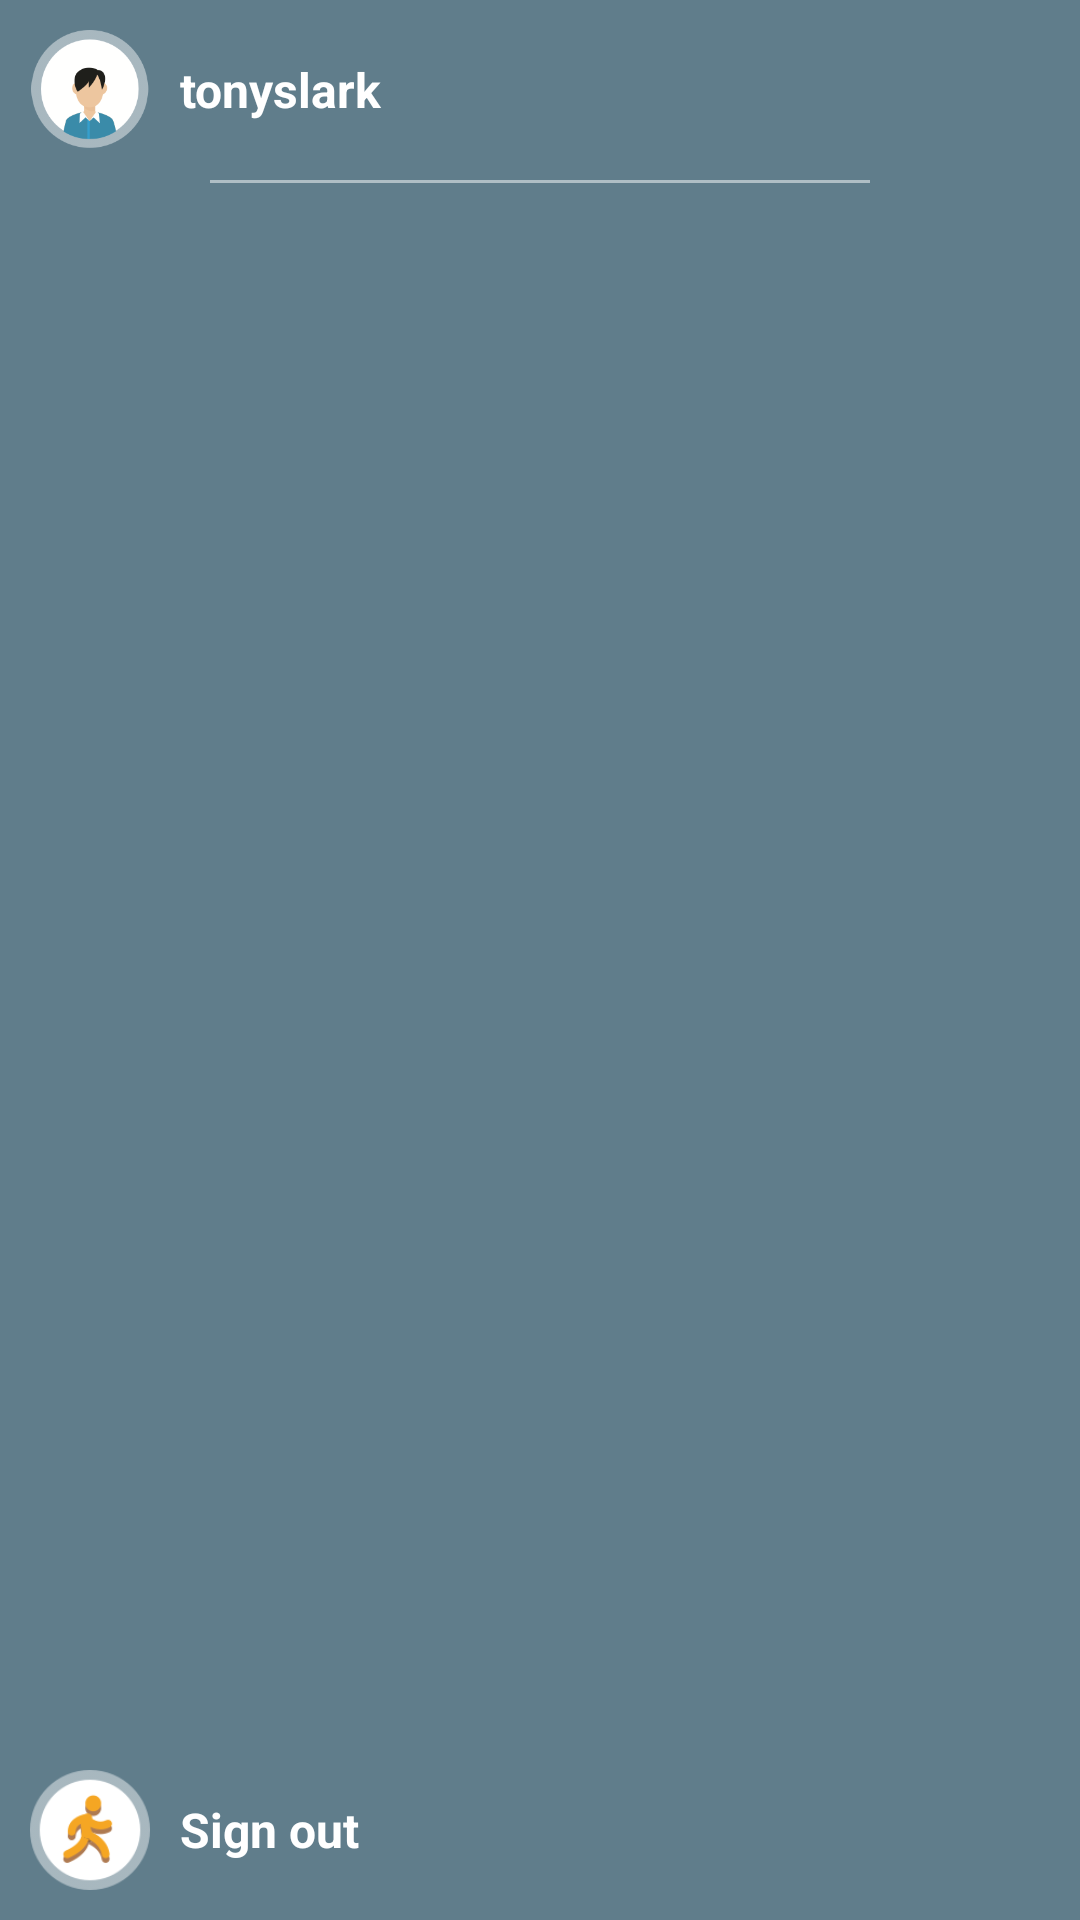

Where icons sit on this 1080*1920 app screen, as (x1, y1, x2, y2):
sidebar account: (31, 30, 148, 148)
